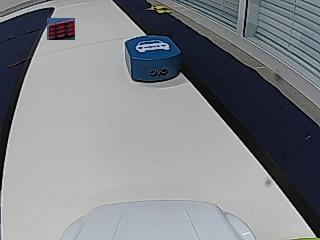safety: (135, 39, 170, 52)
